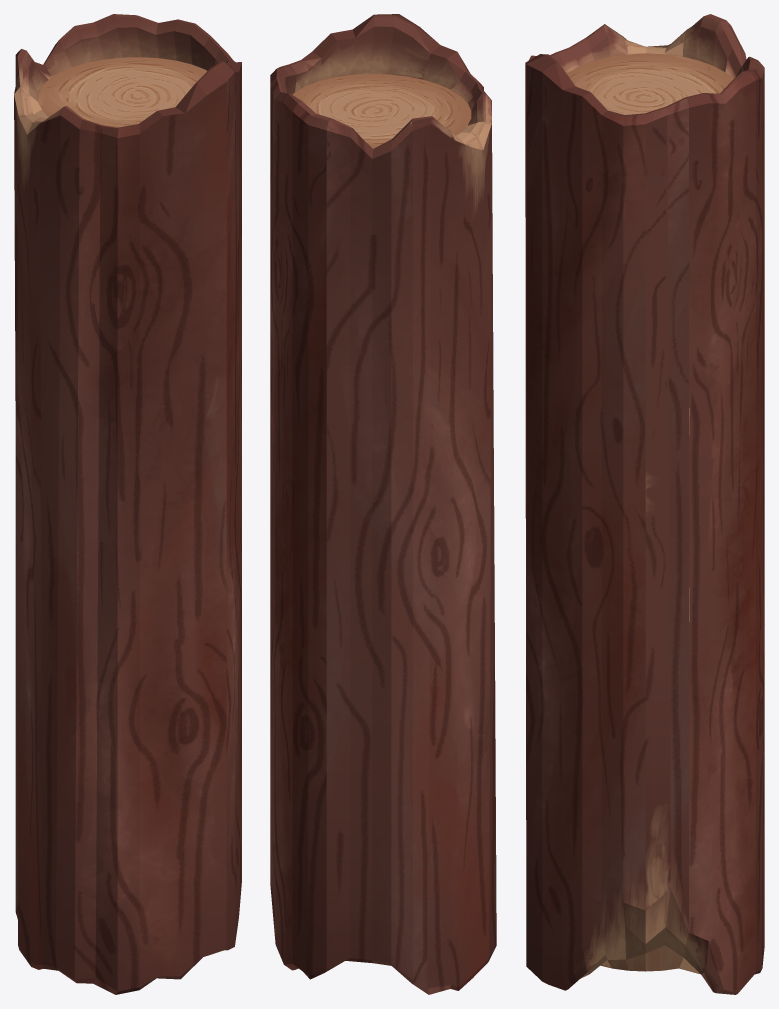
Rendered from Log.fbx.
The picture shows the model from 3 angles, left to right: view 1: azimuth 30°, elevation 25°; view 2: azimuth 150°, elevation 25°; view 3: azimuth 270°, elevation 25°; orthographic projection. The views are drawn at different scales.
Parts seen in each view (by area): view 1: Log; view 2: Log; view 3: Log.
Part boxes in pixels (box(x1,y1,x2,y2)): Log: box(14, 14, 241, 994); Log: box(270, 14, 496, 994); Log: box(525, 14, 764, 994).
Size of the model in its own units: 212 by 919 by 210.
Materials: 1 (1 with a texture image).
